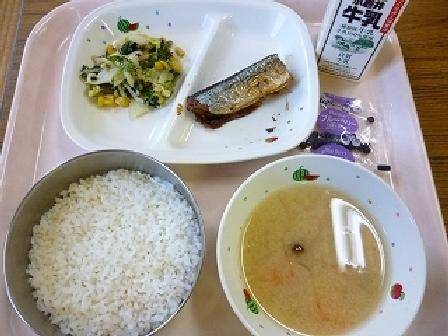Fish: (185, 40, 293, 140)
Milk: (308, 0, 411, 80)
Rice: (14, 157, 194, 333)
Salad: (67, 24, 191, 121)
Soups: (220, 161, 433, 333)
